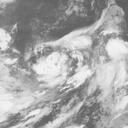cyclone: (33, 51, 69, 88)
